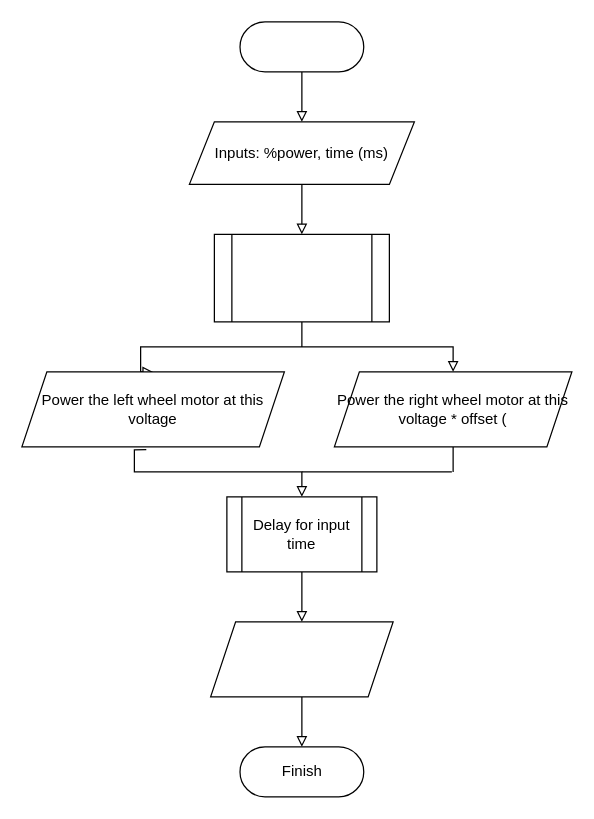
Some shapes in this 594 by 819 pixel diagram are drawn without their labels. The box of each missing label's shape, as (x1, y1, x2, y2) in pixels:
Convert to voltage with convertPower(): (213, 233, 389, 322)
Start: (239, 21, 364, 72)
Turn motors off: (209, 621, 393, 697)
